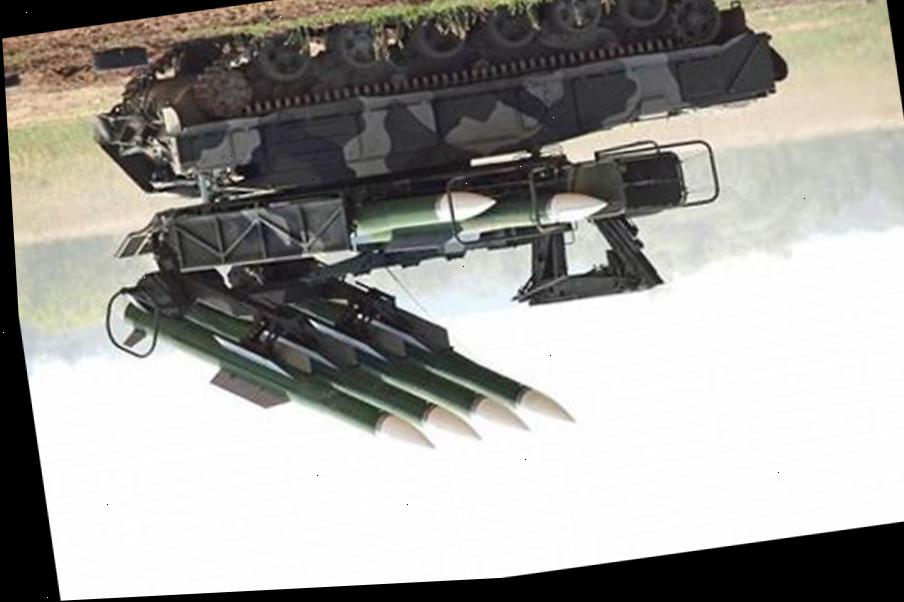armored_car: (45, 0, 849, 507)
